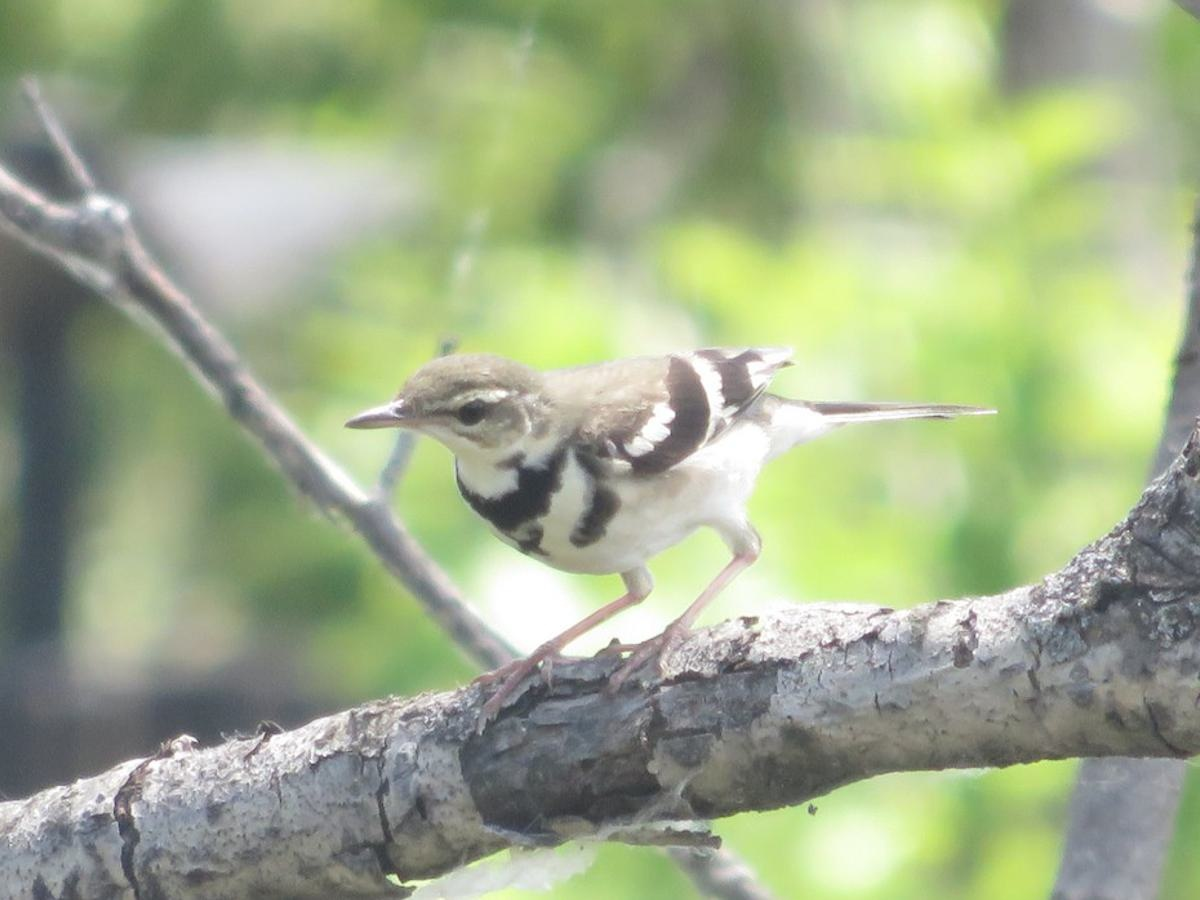wagtail: (353, 338, 918, 620)
